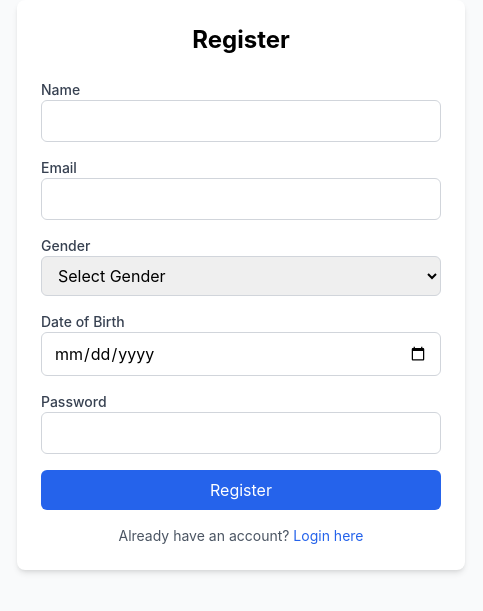
Test case: Register Component › form validation › shows error when password is missing
Type "John Doe" into the field labelled "Name".
click(241, 121); type("John Doe")  # box x1=41 y1=100 x2=441 y2=142
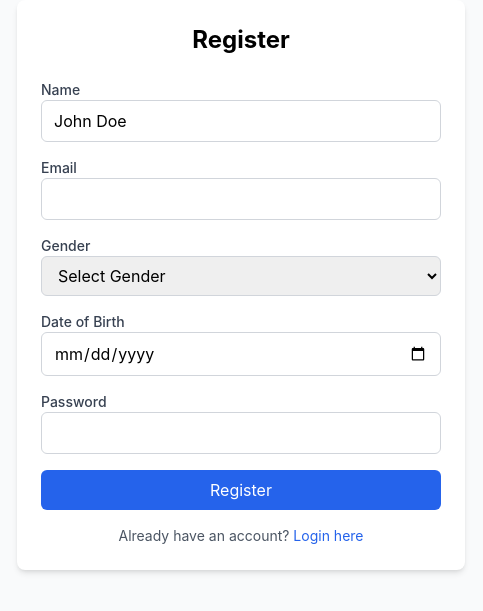
Type "john@example.com" into the field labelled "Email".
click(241, 199); type("john@example.com")  # box x1=41 y1=178 x2=441 y2=220
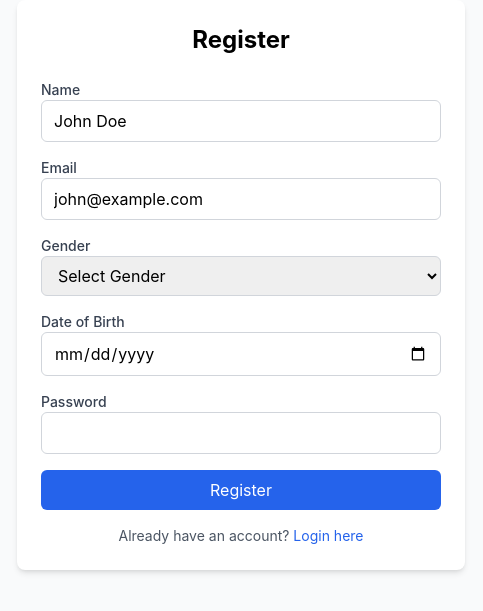
Select "Male" in the dropdown labelled "Gender" at (241, 276), box x1=41 y1=256 x2=441 y2=296
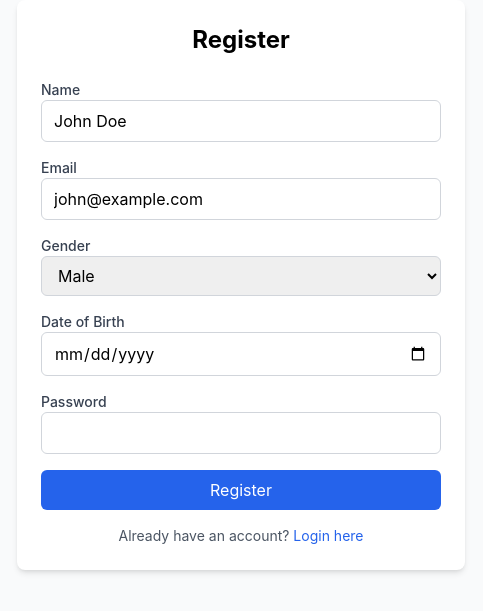
Type "1990-01-01" into the date field labelled "Date of Birth".
click(241, 354); type("1990-01-01")  # box x1=41 y1=332 x2=441 y2=376
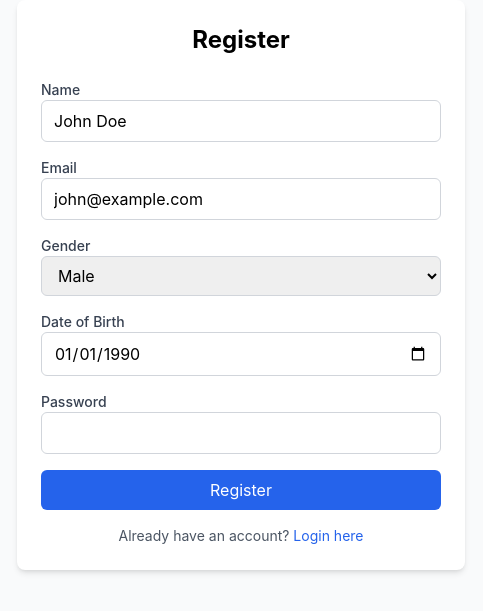
Click the button "Register".
click(241, 490)  # box x1=41 y1=470 x2=441 y2=510
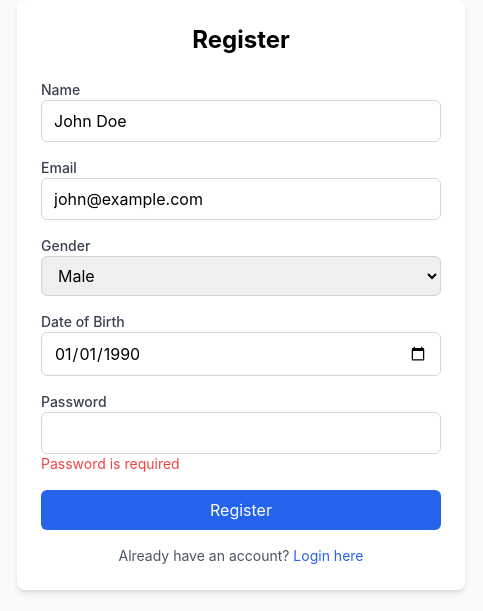
Expected: the text "Password is required" is shown, x1=41 y1=455 x2=180 y2=472
